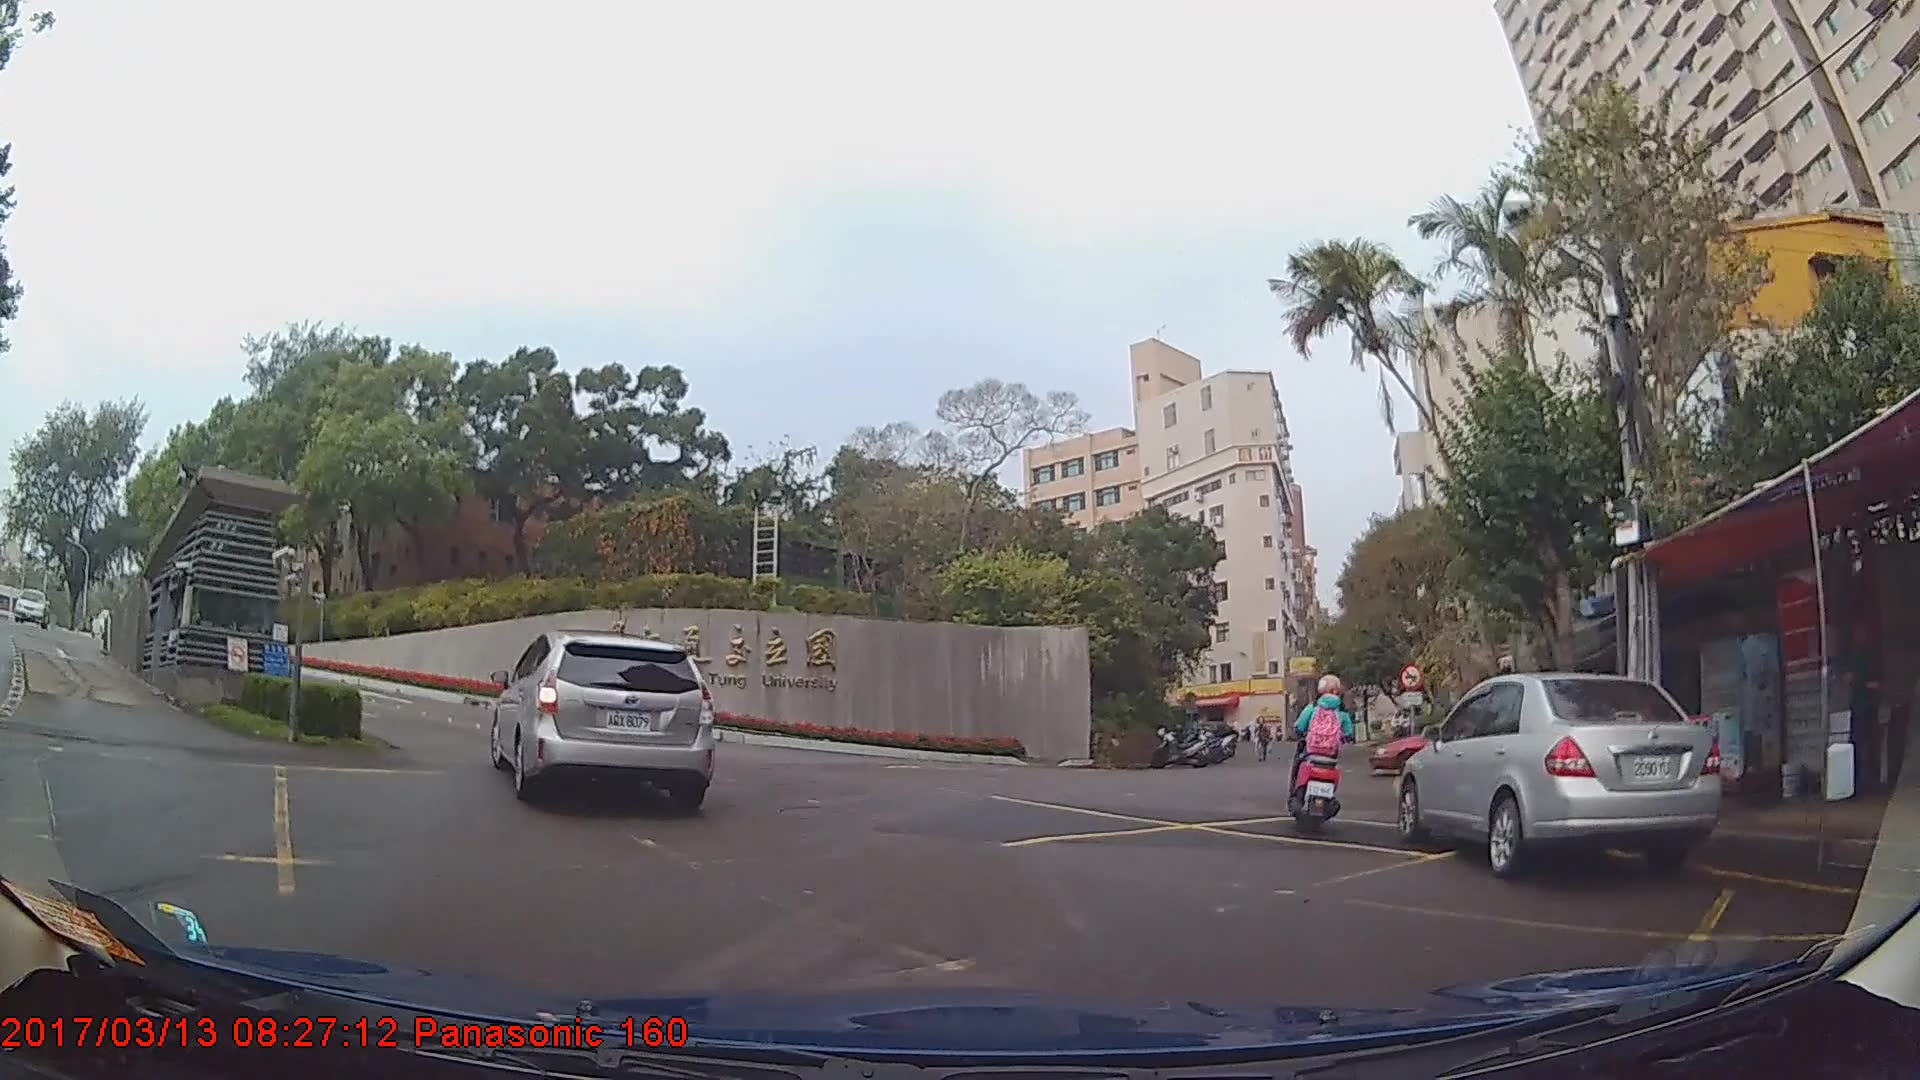pedestrian: (1833, 625, 1892, 799), (1252, 714, 1272, 761)
rider: (1282, 666, 1354, 837)
vehicle: (1397, 669, 1723, 880), (487, 627, 711, 807), (1367, 711, 1516, 773), (12, 584, 49, 625)
